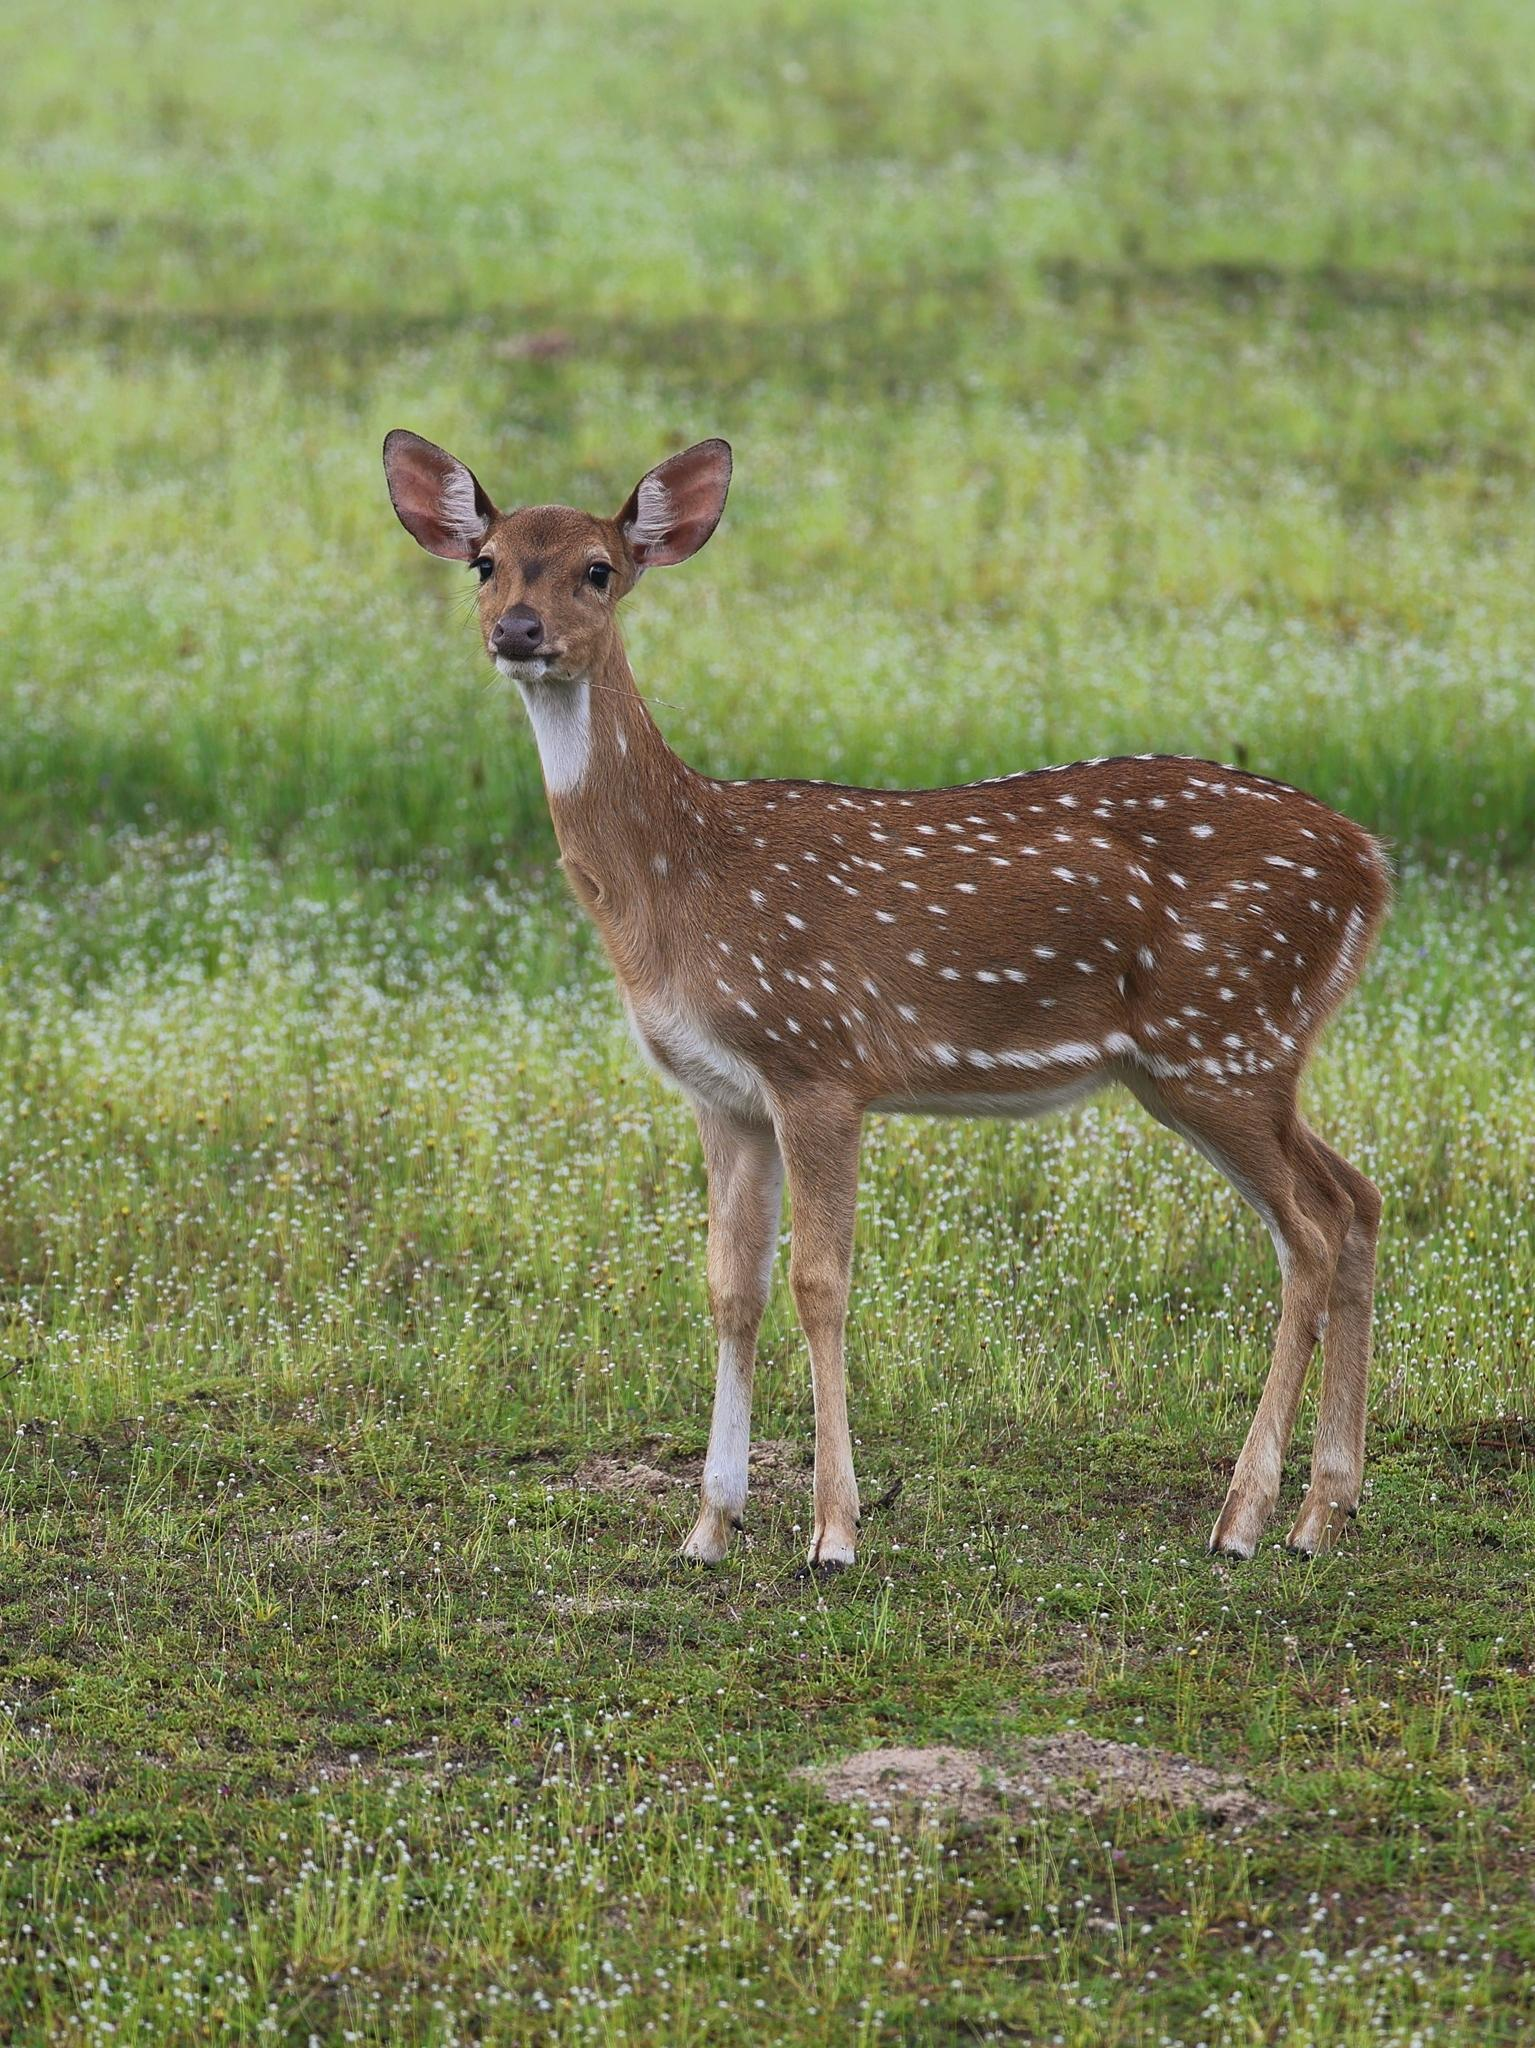Deer: (382, 431, 1387, 1567)
